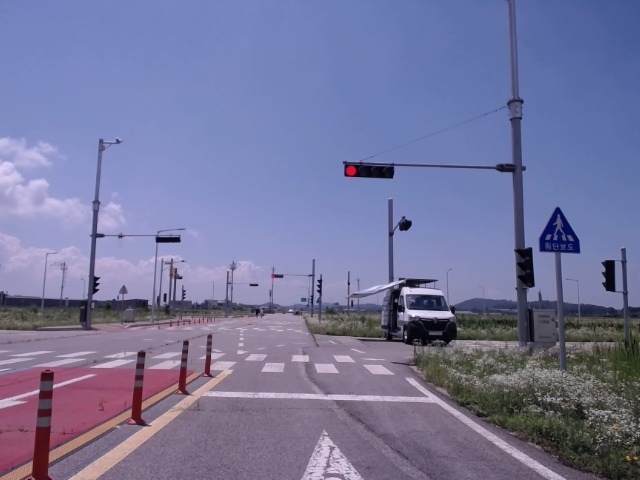red_4: (344, 165, 393, 179)
